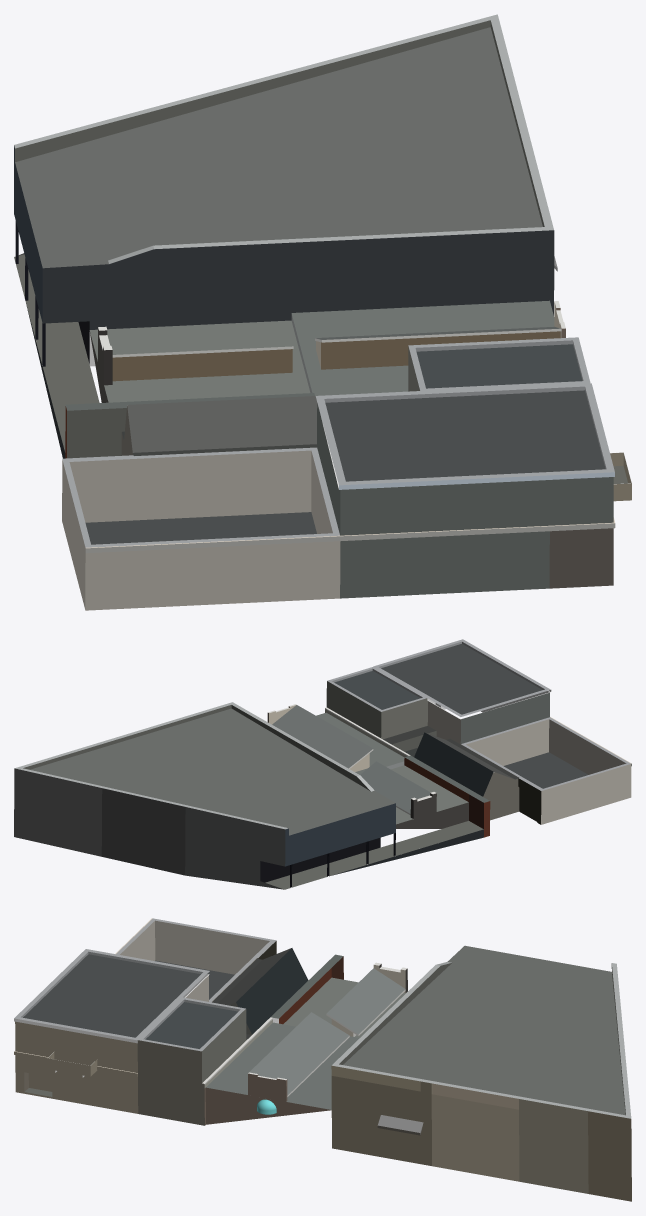
The model's file is 1401-williams-street.glb.
The picture shows the model from 3 angles, top to bottom: view 1: azimuth 30°, elevation 25°; view 2: azimuth 150°, elevation 25°; view 3: azimuth 270°, elevation 25°; orthographic projection. The views are drawn at different scales.
Parts seen in each view (by area): view 1: LOD0; view 2: LOD0; view 3: LOD0.
Part boxes in pixels (x1,y1,x2,y2): LOD0: (14,14,631,610); LOD0: (14,639,631,889); LOD0: (14,918,631,1201).
Size of what is drawn, in the model's own units: 64.34 by 10.57 by 68.01.
Materials: 2 (2 with a texture image).
